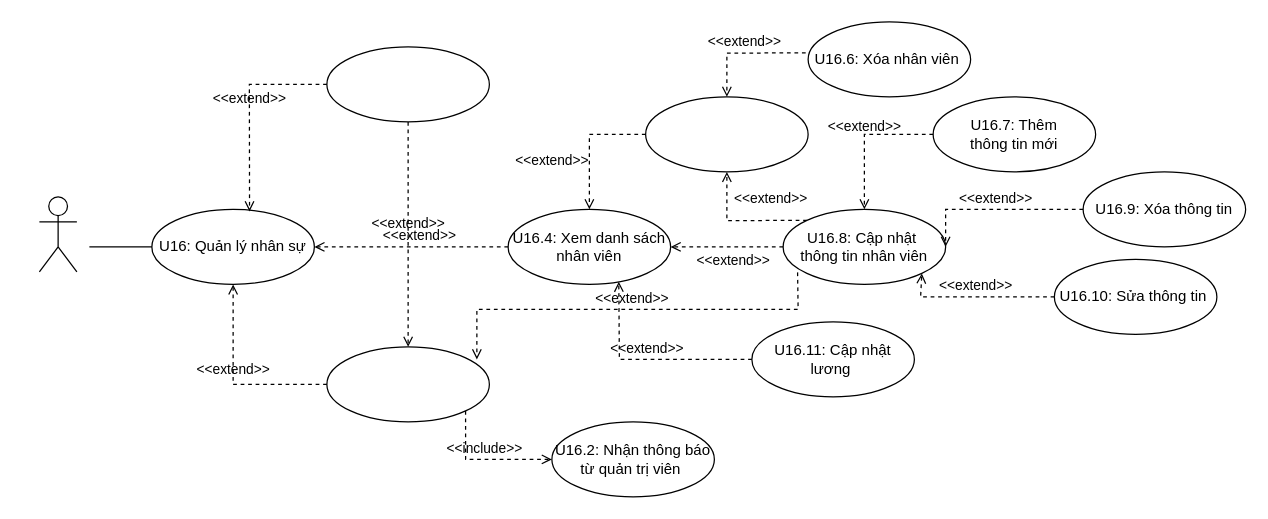
The diagram is 1268 pixels wide and 519 high, and some of its shapes have lost their labels. The shapes that lost their labels are listed below. From the top down, each one's box as (x1, y1, x2, y2) in pixels, then its label:
(326, 46, 489, 122): U16.1: Quản lý thông tin bảo trì
(644, 96, 808, 172): U16.5: Tìm kiếm nhân viên
(38, 196, 77, 272): Quản lý ga
(326, 346, 489, 422): U18.3: Tuyển nhân viên
